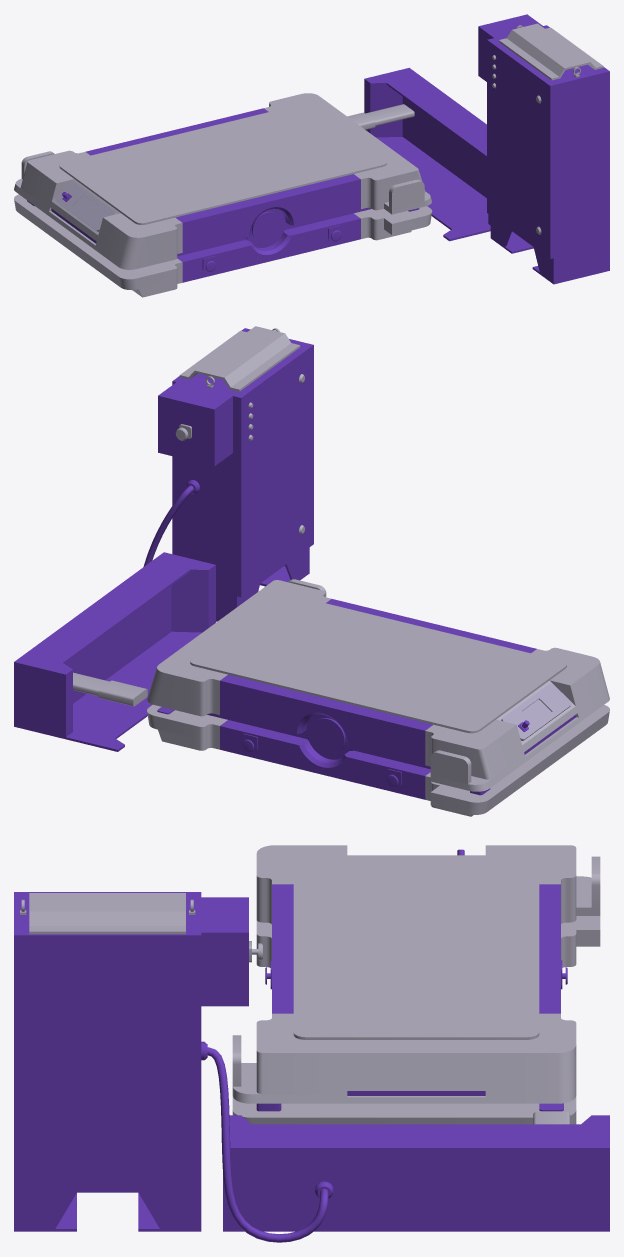
Rendered from amr.glb.
3 renders of one model, top to bottom at view 1: azimuth 30°, elevation 25°; view 2: azimuth 150°, elevation 25°; view 3: azimuth 270°, elevation 25°, orthographic. The views are drawn at different scales.
Parts seen in each view (by area): view 1: Cube.460, Cube.428, Cube.433, Cube.456, Cube.420, Cube.484, Cube.422, Cube.421, Cube.459, Cube.431, Cube.450, Cube.448 (+21 smaller); view 2: Cube.460, Cube.428, Cube.420, Cube.433, Cube.454, Cube.421, Cube.483, Cube.422, Cube.459, Cube.431, Cube.432, Cube.448 (+17 smaller); view 3: Cube.433, Cube.460, Cube.420, Cube.444, Cube.421, Cube.455, Cube.431, Cube.446, Cube.424, Cube.447, Cube.454, Cube.456 (+16 smaller).
Boxes of the visible parts, box(x1,y1,x2,y2) form: Cube.460: box(59, 104, 386, 224); Cube.428: box(487, 39, 553, 258); Cube.433: box(491, 25, 609, 257); Cube.456: box(175, 174, 360, 252); Cube.420: box(364, 81, 490, 225); Cube.484: box(177, 213, 360, 282); Cube.422: box(376, 137, 490, 241); Cube.421: box(364, 67, 486, 157); Cube.459: box(14, 194, 169, 289); Cube.431: box(499, 23, 603, 80); Cube.450: box(102, 219, 169, 269); Cube.448: box(40, 173, 128, 254); Cube.460: box(190, 594, 566, 733); Cube.428: box(237, 344, 313, 597); Cube.420: box(14, 567, 215, 736); Cube.433: box(172, 328, 309, 596); Cube.454: box(220, 674, 432, 764); Cube.421: box(14, 552, 215, 676); Cube.483: box(220, 720, 430, 799); Cube.422: box(14, 631, 201, 751); Cube.459: box(430, 705, 609, 814); Cube.431: box(179, 326, 300, 391); Cube.432: box(158, 394, 216, 466); Cube.448: box(487, 674, 588, 767); Cube.433: box(14, 894, 201, 1192); Cube.460: box(293, 855, 539, 1039); Cube.420: box(223, 1151, 609, 1228); Cube.444: box(324, 1040, 508, 1103); Cube.421: box(229, 1115, 609, 1150); Cube.455: box(232, 1096, 576, 1124); Cube.431: box(29, 893, 185, 934); Cube.446: box(508, 1026, 576, 1103); Cube.424: box(201, 897, 242, 1006); Cube.447: box(256, 1026, 324, 1094); Cube.454: box(539, 884, 560, 1013); Cube.456: box(272, 884, 293, 1013).
Size of the model in its own units: 2.36 by 1.11 by 1.94.
